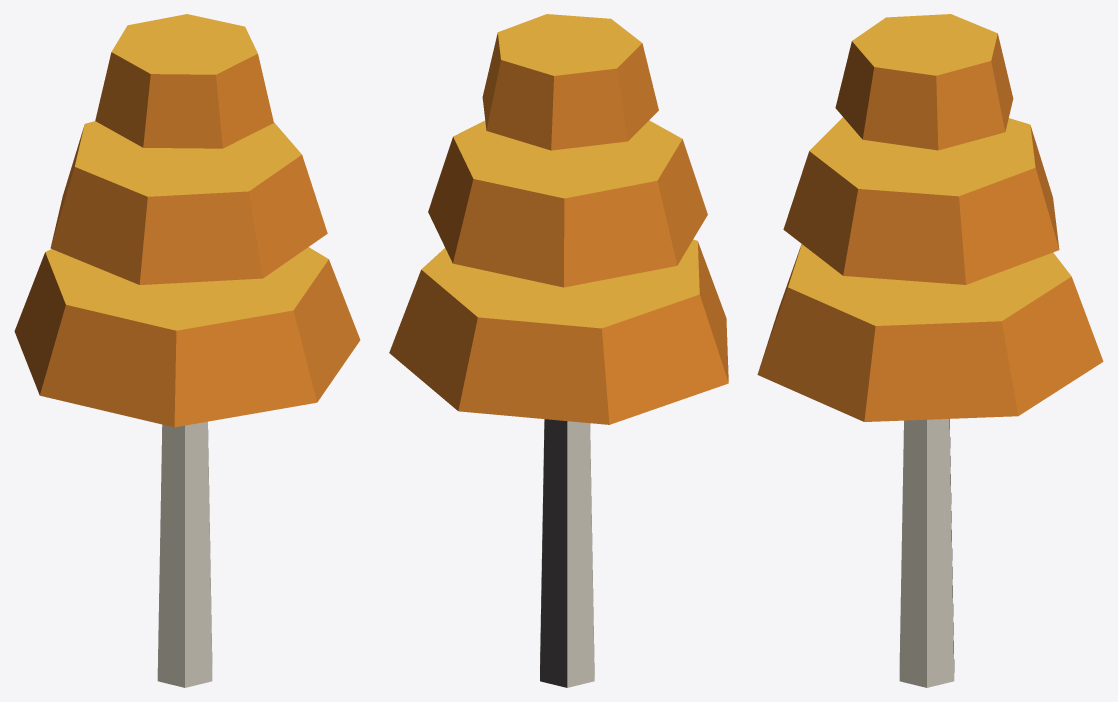
Rendered from tree_plateau_fall.glb.
The picture shows the model from 3 angles, left to right: view 1: azimuth 30°, elevation 25°; view 2: azimuth 150°, elevation 25°; view 3: azimuth 270°, elevation 25°; orthographic projection.
Parts seen in each view (by area): view 1: tree_plateau_fall; view 2: tree_plateau_fall; view 3: tree_plateau_fall.
Part boxes in pixels (x1,y1,x2,y2): tree_plateau_fall: [14, 14, 360, 687]; tree_plateau_fall: [389, 14, 728, 687]; tree_plateau_fall: [757, 14, 1103, 687].
Bounding box in the file's own units: 0.599 × 1.21 × 0.602.
Materials: 1 (1 with a texture image).
